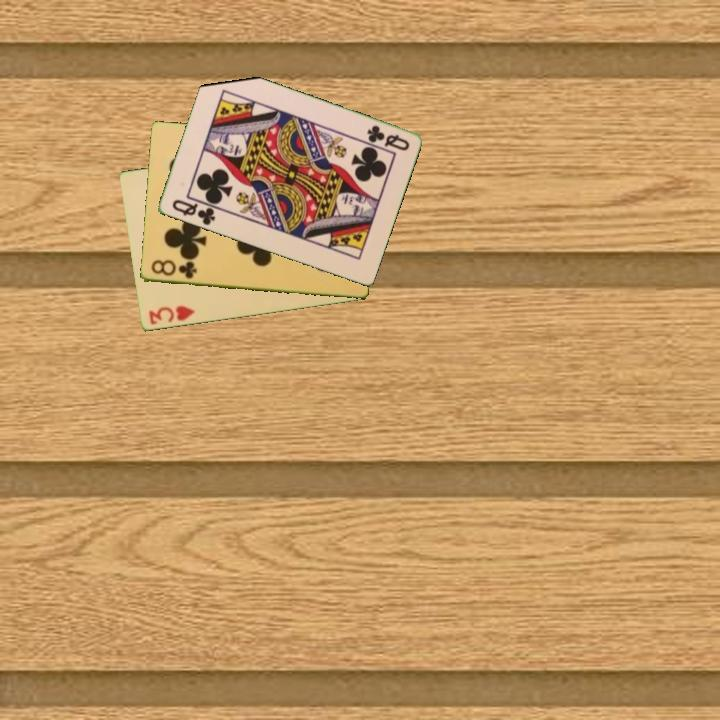3h: (145, 302, 197, 328)
8c: (148, 257, 199, 282)
Qc: (168, 196, 218, 228), (363, 122, 412, 154)
